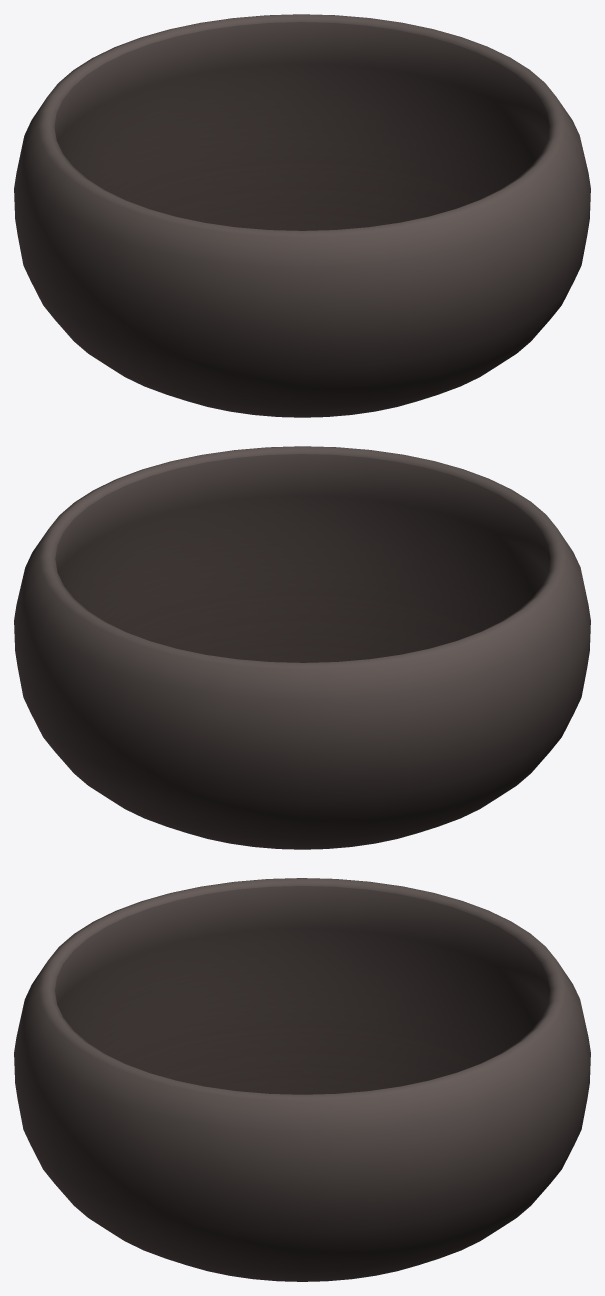
Rendered from bowl_001.glb.
The picture shows the model from 3 angles, top to bottom: view 1: azimuth 30°, elevation 25°; view 2: azimuth 150°, elevation 25°; view 3: azimuth 270°, elevation 25°; orthographic projection.
Visible parts, largest first — view 1: bowl_001; view 2: bowl_001; view 3: bowl_001.
Part boxes in pixels (x1,y1,x2,y2): bowl_001: [14, 14, 590, 417]; bowl_001: [14, 446, 590, 849]; bowl_001: [14, 878, 590, 1281].
Size of the model in its own units: 0.1962 by 0.0871 by 0.1962.
1 material, 1 textured.
